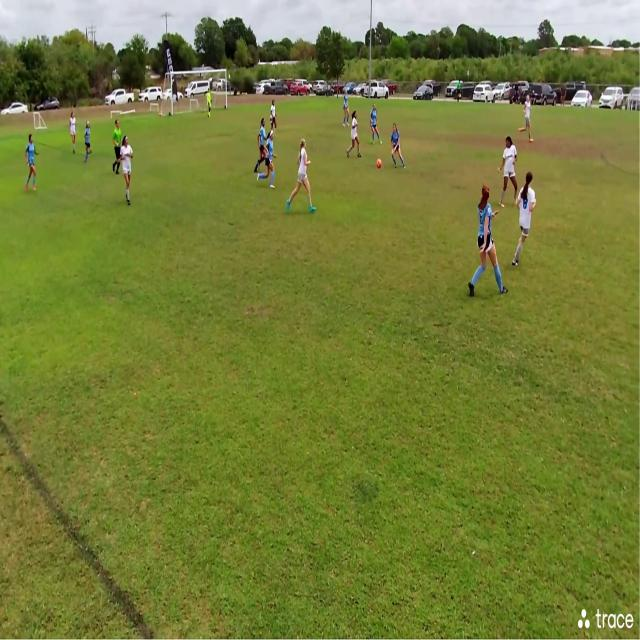ball: (377, 158, 382, 169)
team1: (474, 192, 505, 297), (255, 116, 271, 181), (24, 135, 38, 193), (390, 123, 407, 169), (266, 132, 278, 188), (368, 103, 382, 145), (84, 122, 94, 165), (342, 88, 350, 125)
team2: (289, 138, 316, 213), (517, 177, 538, 270), (501, 135, 522, 207), (122, 137, 136, 206), (346, 112, 362, 162), (523, 97, 534, 143), (68, 110, 77, 156), (270, 101, 278, 141)
